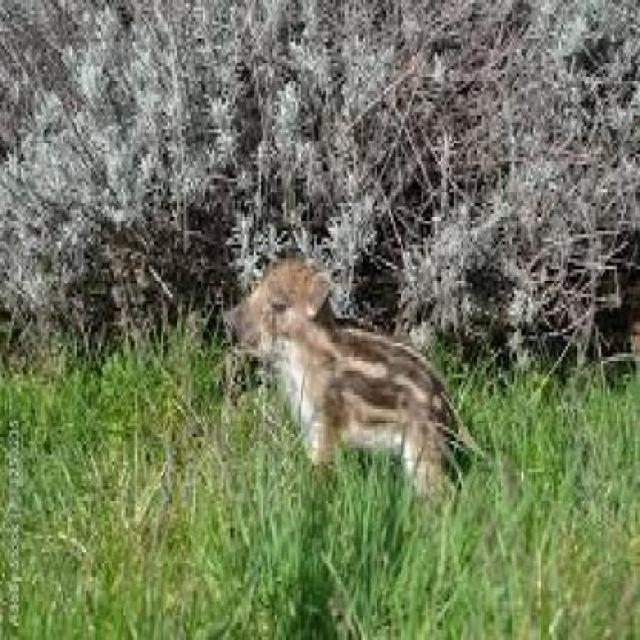wildboar: (225, 248, 466, 500)
